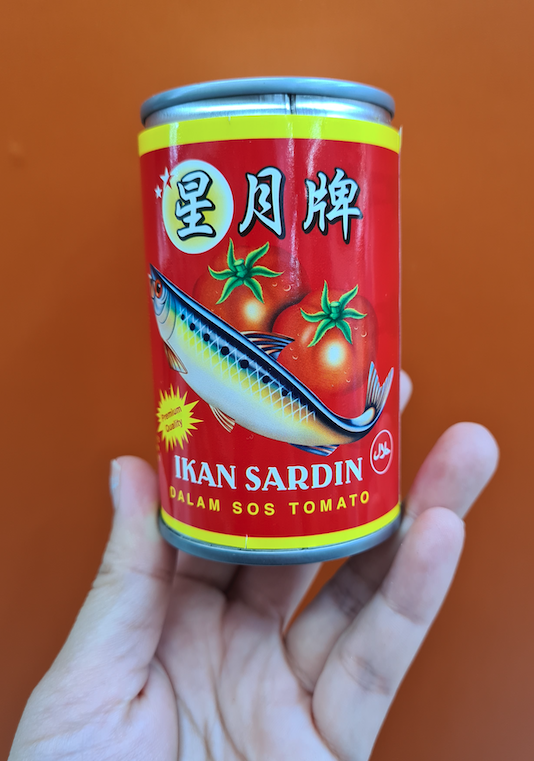Canned_Sardines_and_Mackerel: (145, 95, 397, 528)
